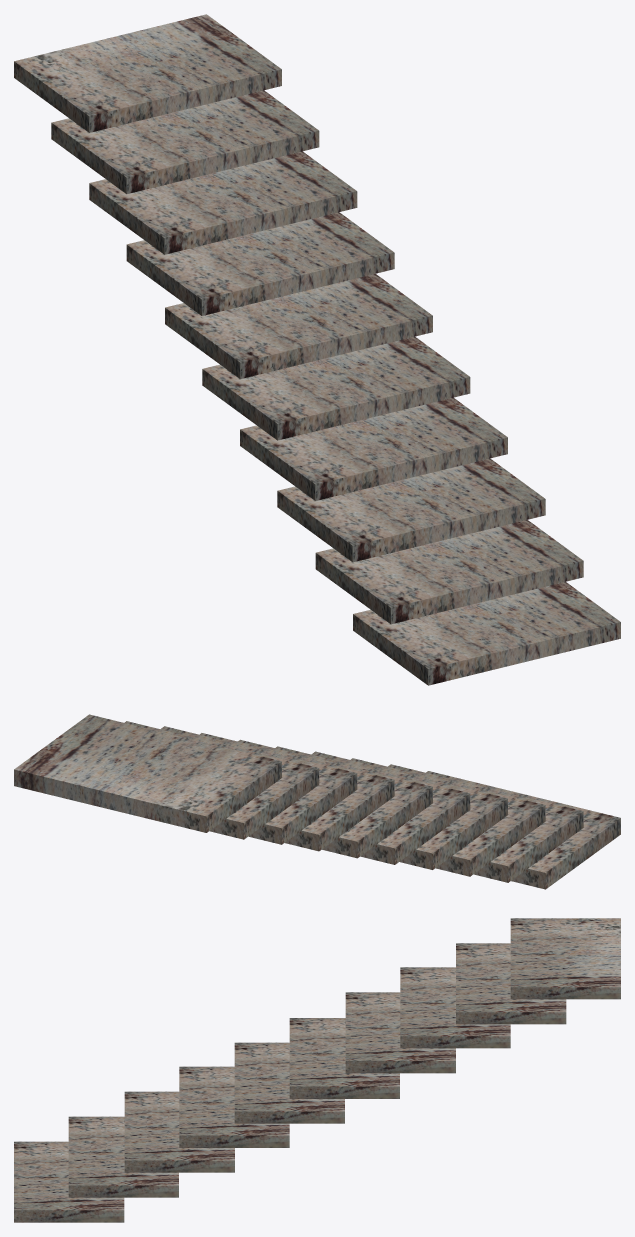
File: marble_stairs1.fbx
3 renders of one model, top to bottom at view 1: azimuth 30°, elevation 25°; view 2: azimuth 150°, elevation 25°; view 3: azimuth 270°, elevation 25°, orthographic. The views are drawn at different scales.
Visible parts, largest first — view 1: Cube.051; view 2: Cube.051; view 3: Cube.051.
Boxes of the visible parts, x1,y1,x2,y2 form: Cube.051: [14, 14, 620, 685]; Cube.051: [14, 714, 620, 889]; Cube.051: [14, 918, 620, 1222].
Size of the model in its own units: 14.74 by 23.47 by 54.87.
1 material, 1 textured.
